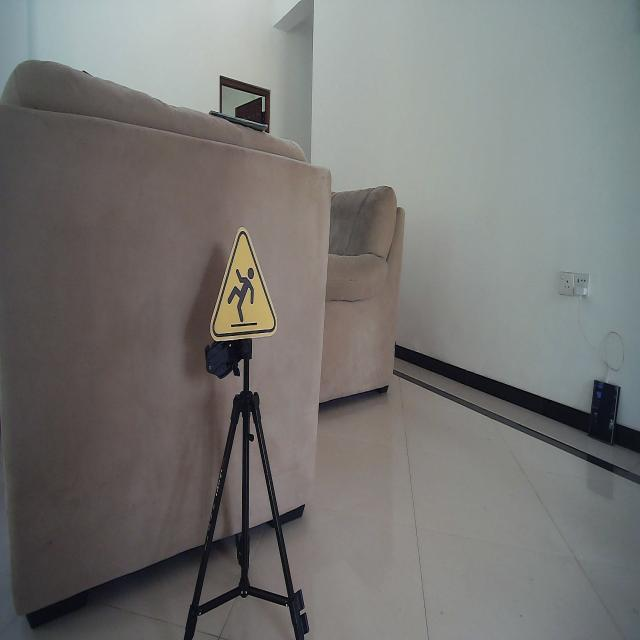slippery_sign: (209, 224, 280, 344)
